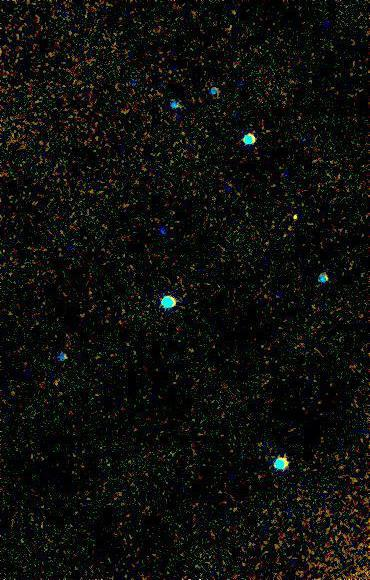star: (279, 202, 309, 232)
